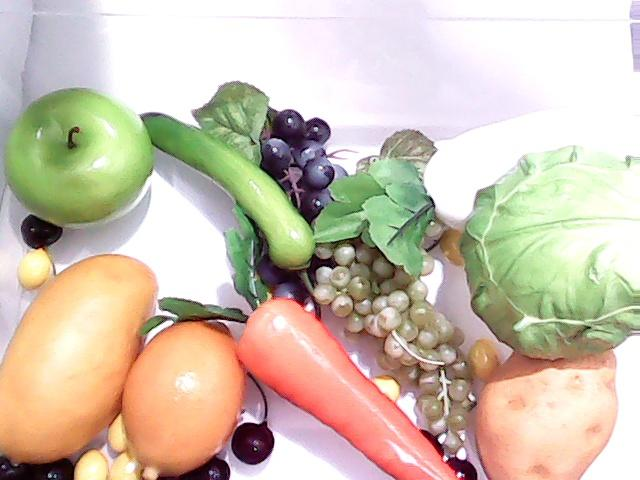apple: (4, 80, 160, 234)
cabbage: (471, 140, 639, 364)
carrot: (135, 199, 465, 480)
grape: (305, 218, 471, 460), (244, 106, 346, 298)
lemon: (115, 310, 249, 478)
mango: (4, 244, 164, 466)
pepper: (136, 107, 324, 266)
potato: (474, 342, 618, 480)
radish: (312, 100, 640, 278)
